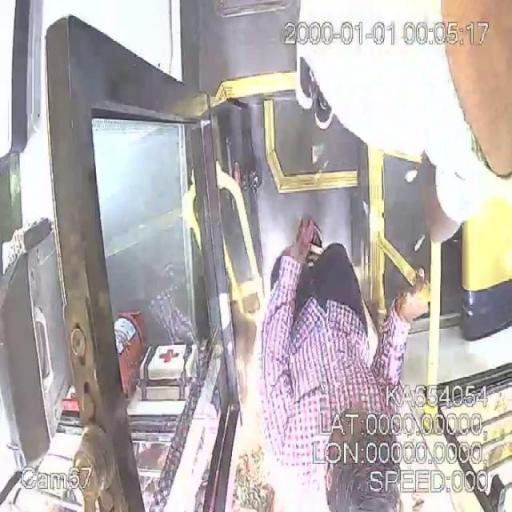persona: (258, 215, 430, 511)
